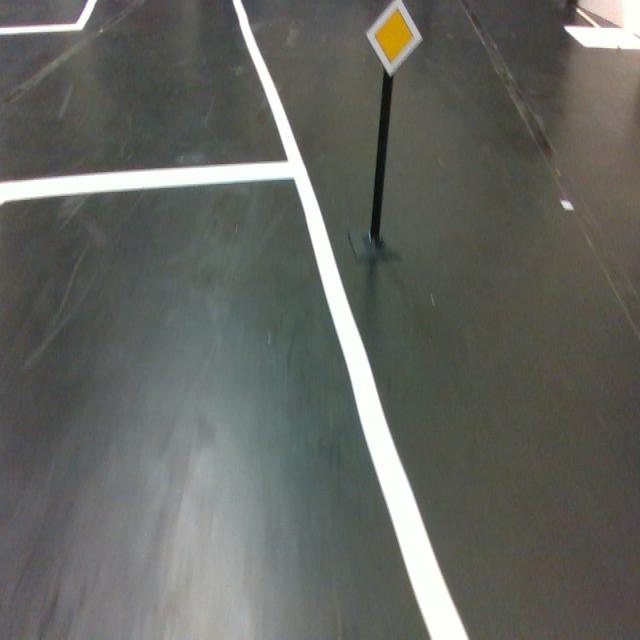priority-sign: (364, 0, 423, 78)
